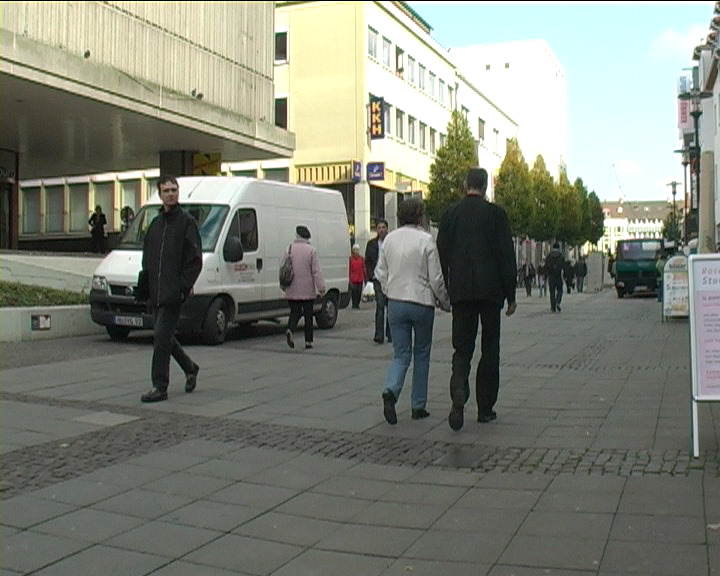deflection: (146, 178, 201, 267)
